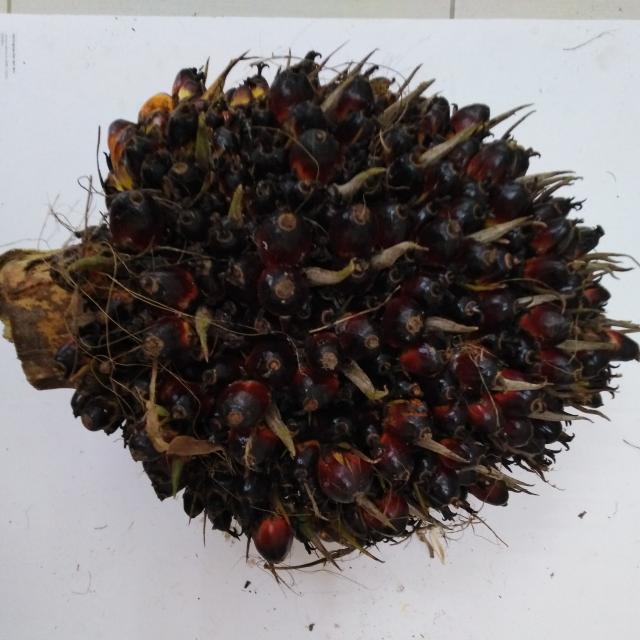FFB: (85, 63, 631, 551)
